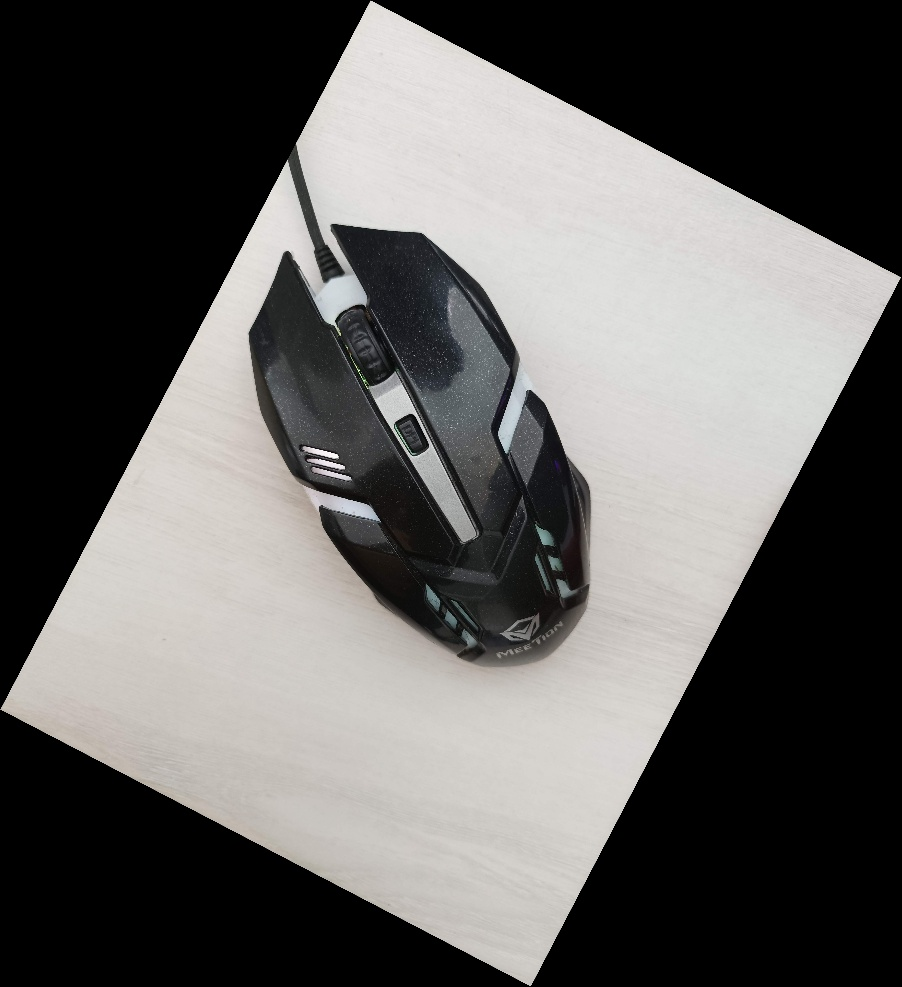mouse: (242, 219, 597, 670)
